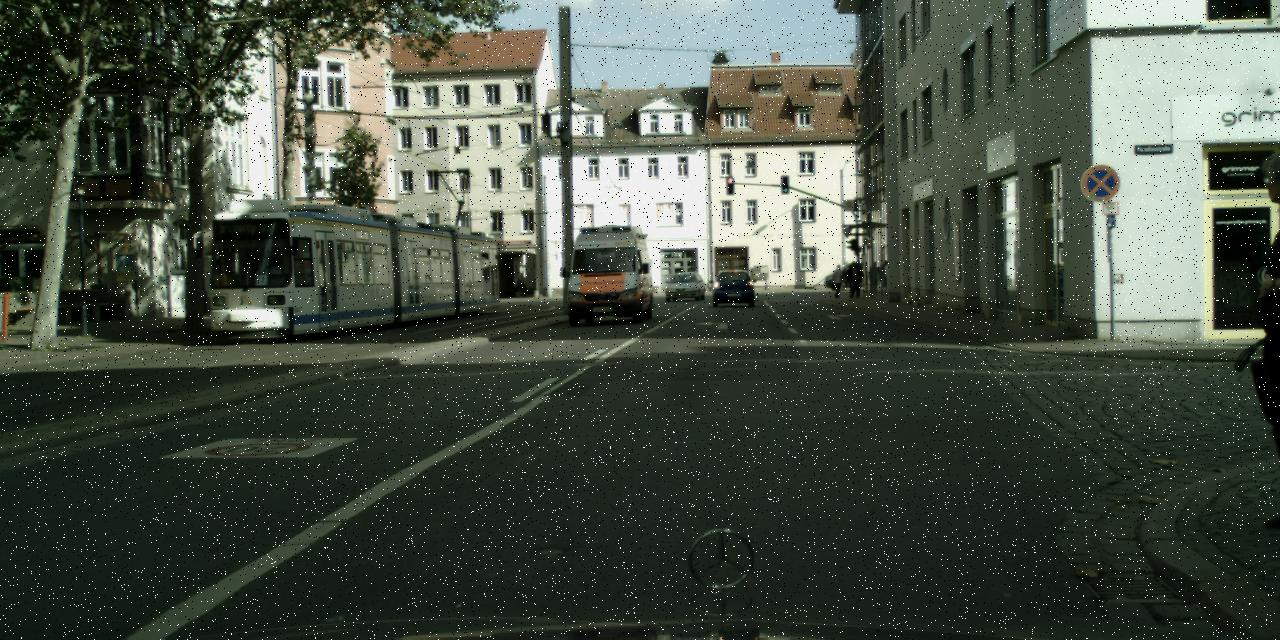ped: (830, 264, 844, 298), (847, 262, 861, 296)
